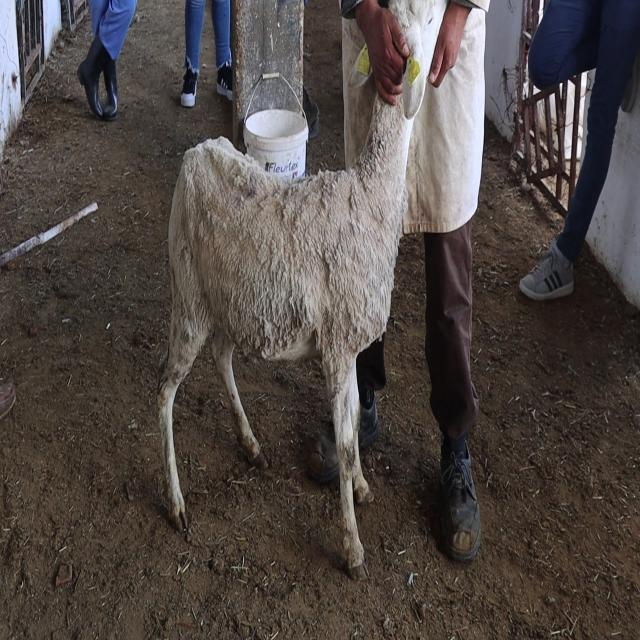Score_1: (158, 56, 423, 577)
